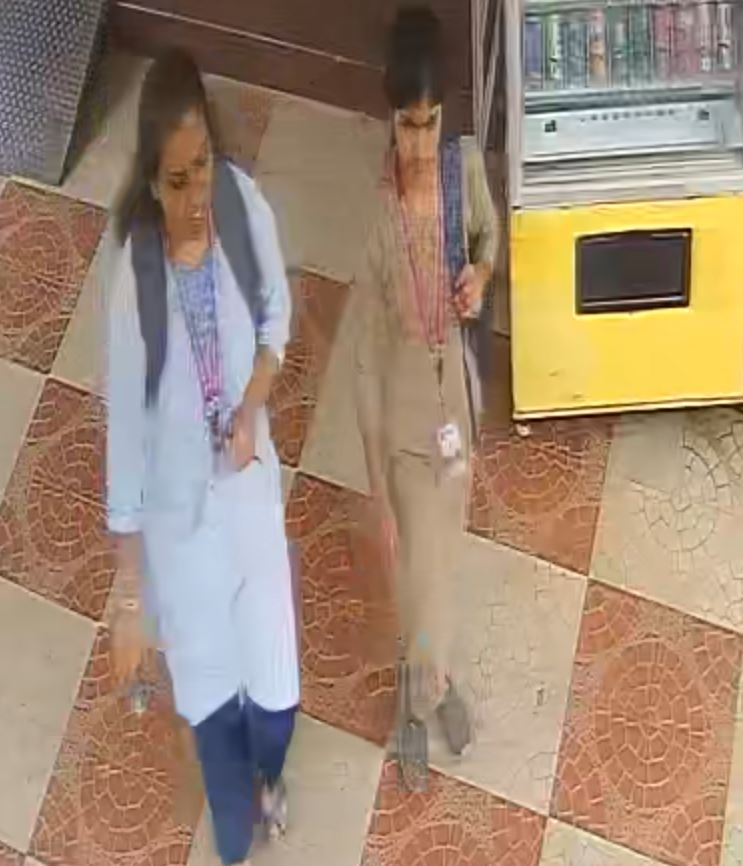intruder: (78, 54, 339, 866), (346, 2, 513, 818)
